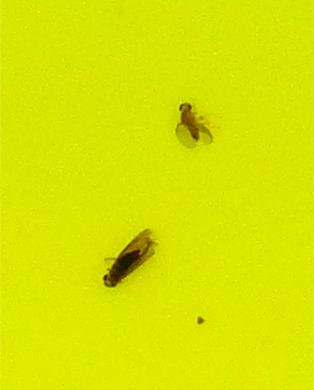Brachycera: (173, 100, 214, 147)
Hemiptera: (100, 227, 157, 290)
